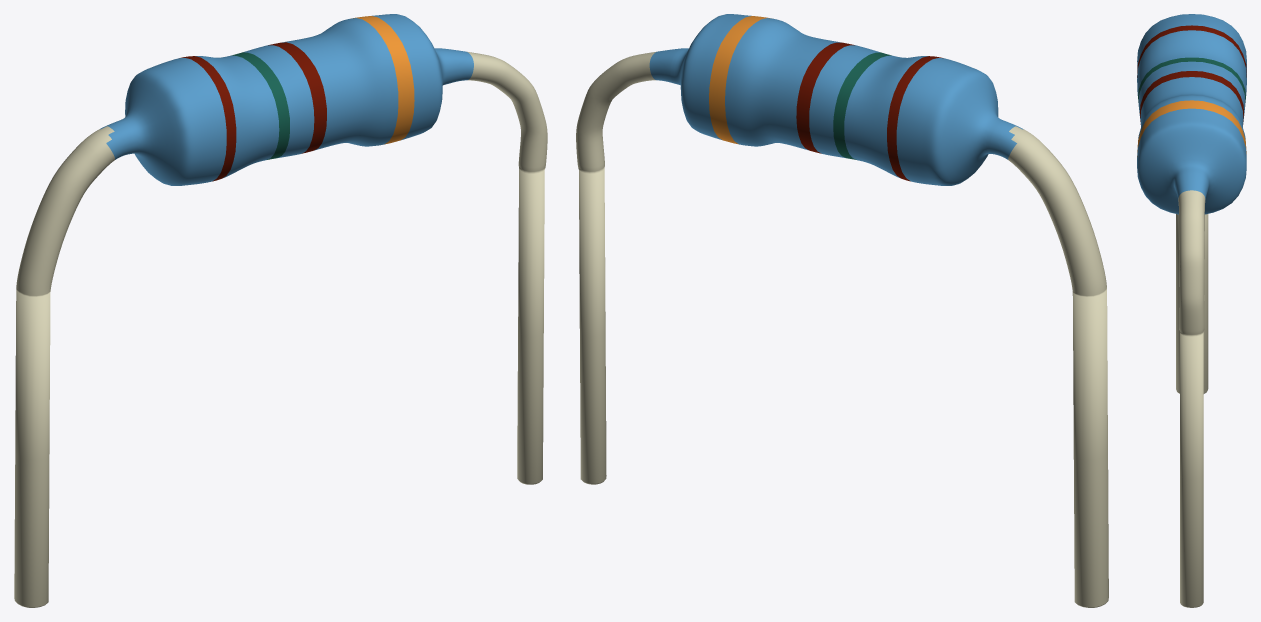
The model's file is Resistencia_axial.fbx.
3 views of the same model, side by side, from view 1: azimuth 30°, elevation 25°; view 2: azimuth 150°, elevation 25°; view 3: azimuth 270°, elevation 25° (orthographic). The views are drawn at different scales.
Visible parts, largest first — view 1: Resistencia_blue, Resistencia_silver, Resistencia_gold, Resistencia_red_1, Resistencia_green, Resistencia_red; view 2: Resistencia_blue, Resistencia_silver, Resistencia_gold, Resistencia_red_1, Resistencia_green, Resistencia_red; view 3: Resistencia_blue, Resistencia_silver, Resistencia_gold, Resistencia_red_1, Resistencia_red, Resistencia_green.
Boxes of the visible parts, bbox=[...] form: Resistencia_blue: bbox=[100, 14, 473, 185]; Resistencia_silver: bbox=[14, 51, 547, 607]; Resistencia_gold: bbox=[351, 16, 414, 144]; Resistencia_red_1: bbox=[268, 42, 326, 153]; Resistencia_green: bbox=[231, 52, 289, 159]; Resistencia_red: bbox=[179, 56, 236, 181]; Resistencia_blue: bbox=[649, 14, 1023, 185]; Resistencia_silver: bbox=[576, 51, 1108, 607]; Resistencia_gold: bbox=[709, 16, 769, 144]; Resistencia_red_1: bbox=[796, 42, 854, 153]; Resistencia_green: bbox=[833, 52, 891, 159]; Resistencia_red: bbox=[887, 56, 943, 181]; Resistencia_blue: bbox=[1137, 14, 1246, 214]; Resistencia_silver: bbox=[1176, 190, 1208, 607]; Resistencia_gold: bbox=[1137, 100, 1246, 156]; Resistencia_red_1: bbox=[1139, 71, 1244, 124]; Resistencia_red: bbox=[1137, 25, 1246, 77]; Resistencia_green: bbox=[1138, 57, 1245, 106].
Bounding box in the file's own units: 0.0576 × 0.0521 × 0.0118.
